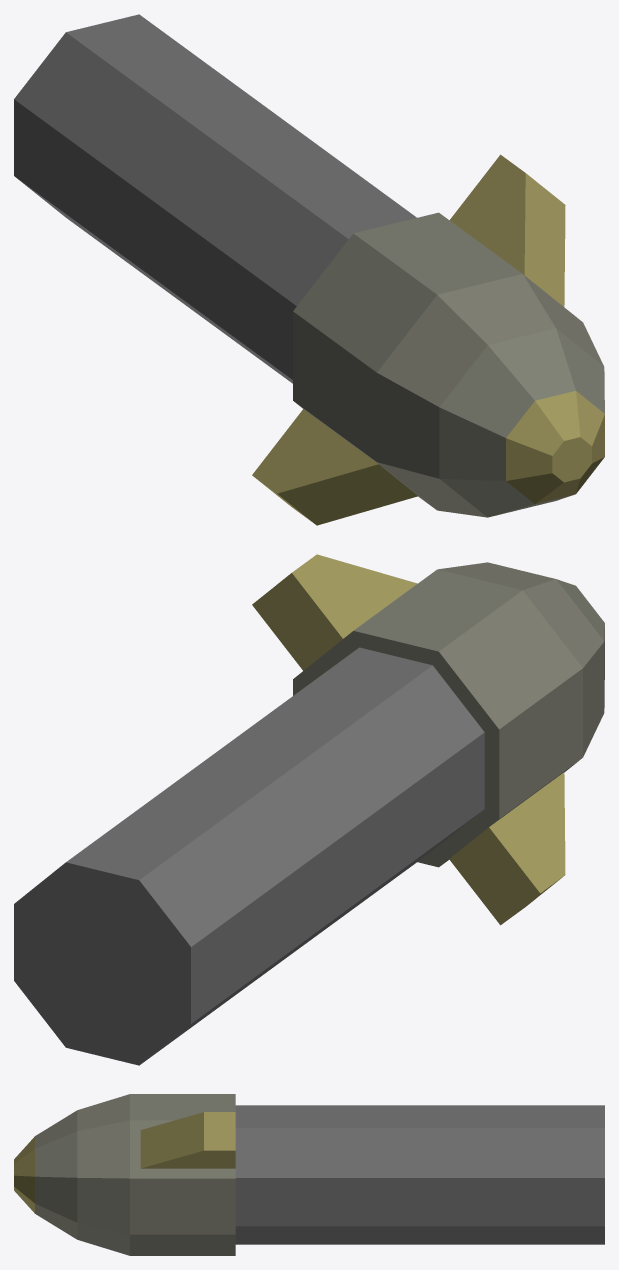
The model's file is ammo_rocketModern.glb.
3 renders of one model, top to bottom at view 1: azimuth 30°, elevation 25°; view 2: azimuth 150°, elevation 25°; view 3: azimuth 270°, elevation 25°, orthographic. The views are drawn at different scales.
Parts seen in each view (by area): view 1: ammo_rocketModern; view 2: ammo_rocketModern; view 3: ammo_rocketModern.
Boxes of the visible parts, x1=… form: ammo_rocketModern: x1=14, y1=14, x2=604, y2=525; ammo_rocketModern: x1=14, y1=554, x2=604, y2=1065; ammo_rocketModern: x1=14, y1=1094, x2=604, y2=1255.
Size of the model in its own units: 0.0119 by 0.0119 by 0.0336.
